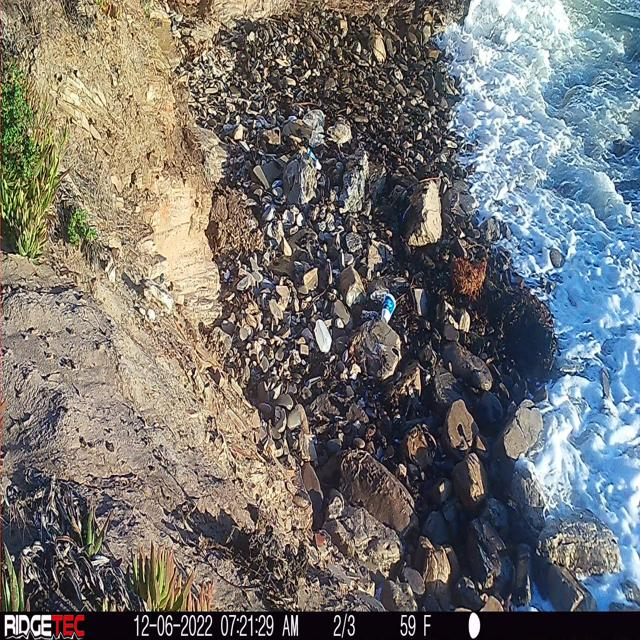bird: (324, 112, 354, 155)
